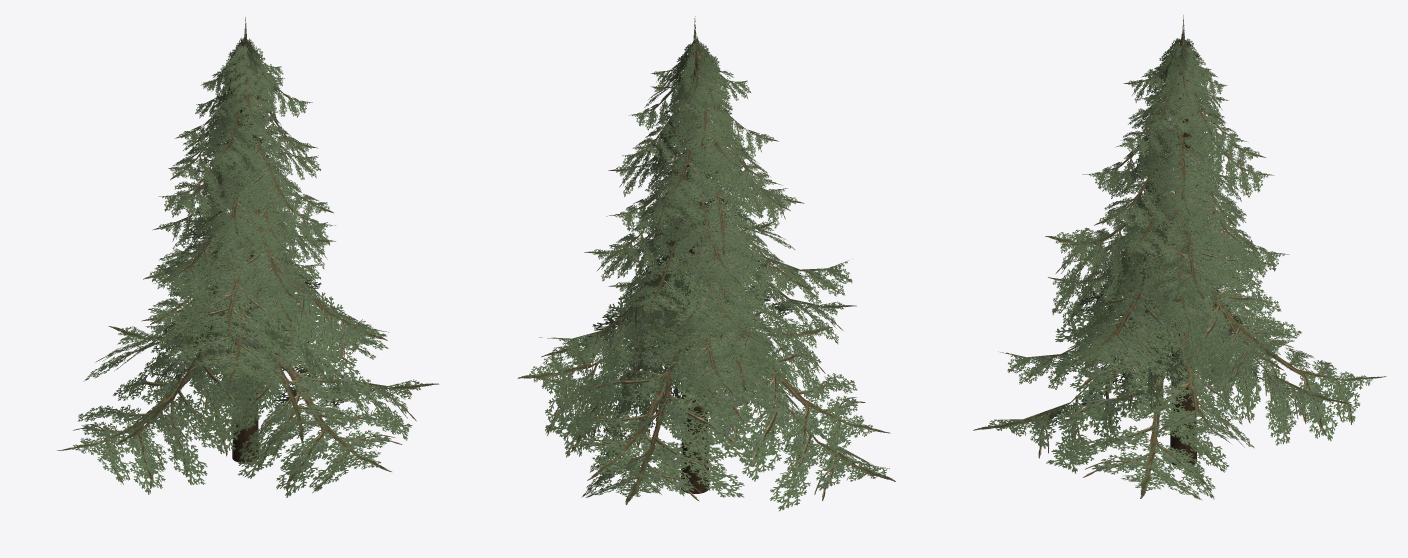
Rendered from pine.glb.
3 views of the same model, side by side, from view 1: azimuth 30°, elevation 25°; view 2: azimuth 150°, elevation 25°; view 3: azimuth 270°, elevation 25° (orthographic). The views are drawn at different scales.
Parts seen in each view (by area): view 1: Object_2; view 2: Object_2; view 3: Object_2.
Part boxes in pixels (x1,y1,x2,y2): Object_2: (57, 17, 439, 497); Object_2: (517, 16, 895, 511); Object_2: (973, 15, 1386, 500).
Bounding box in the file's own units: 3.68 × 4.3 × 3.66.
Materials: 1 (1 with a texture image).
